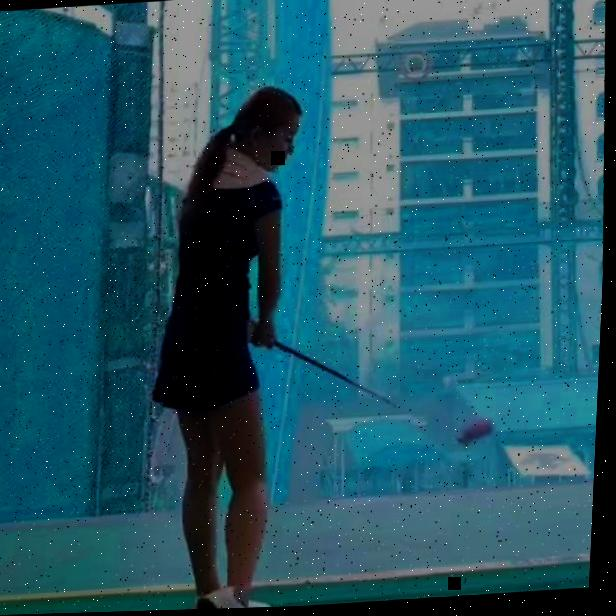ClubHead: (462, 418, 498, 448)
